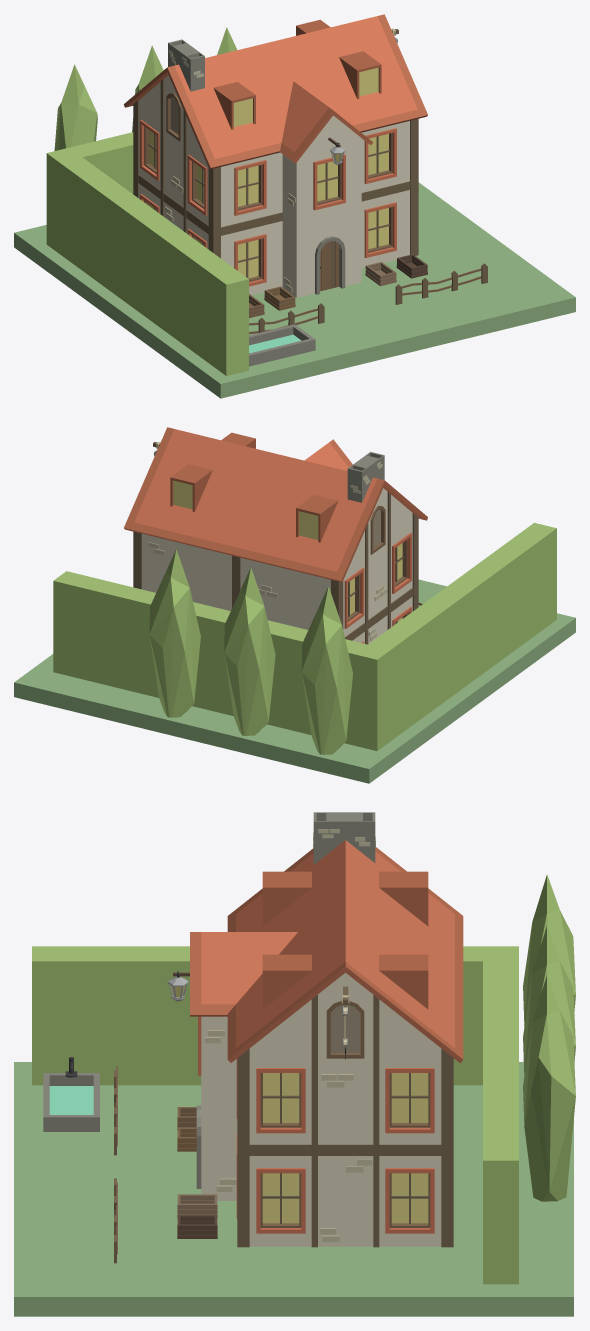
Rendered from House_4.fbx.
3 views of the same model, one above another, from view 1: azimuth 30°, elevation 25°; view 2: azimuth 150°, elevation 25°; view 3: azimuth 270°, elevation 25° (orthographic). The views are drawn at different scales.
Visible parts, largest first — view 1: House_4; view 2: House_4; view 3: House_4.
Part boxes in pixels (x1,y1,x2,y2): House_4: [14, 14, 575, 398]; House_4: [14, 427, 575, 783]; House_4: [14, 812, 575, 1316].
Bounding box in the file's own units: 254 × 163 × 257.
1 material, 1 textured.
